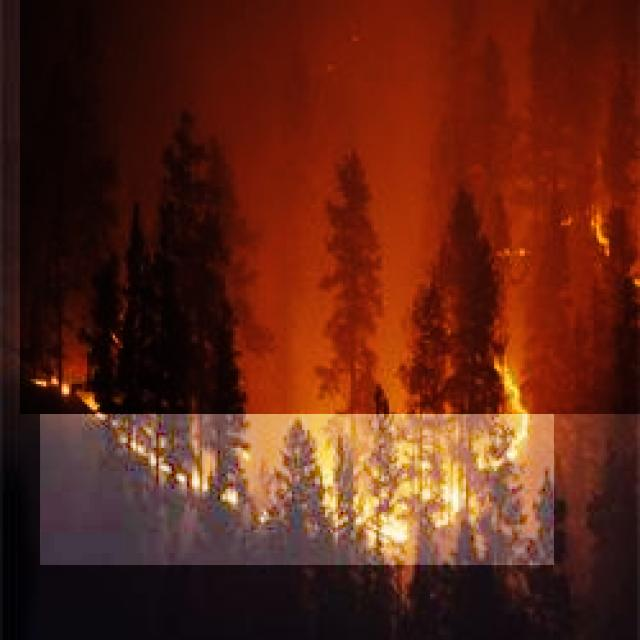Fire: (40, 330, 554, 565)
Smoke: (20, 0, 640, 414)
